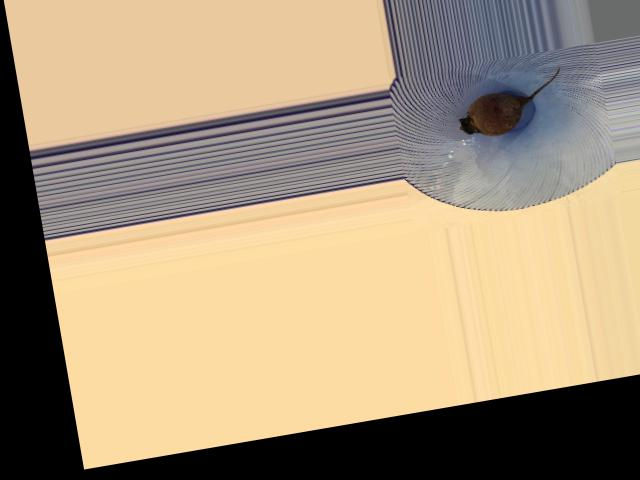beet: (452, 67, 568, 140)
